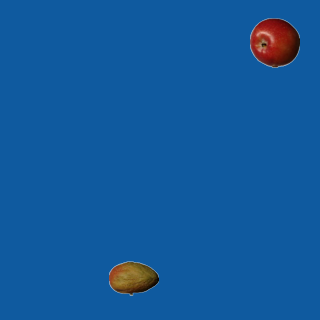Apple Braeburn: (249, 17, 299, 67)
Papaya: (108, 253, 158, 303)
